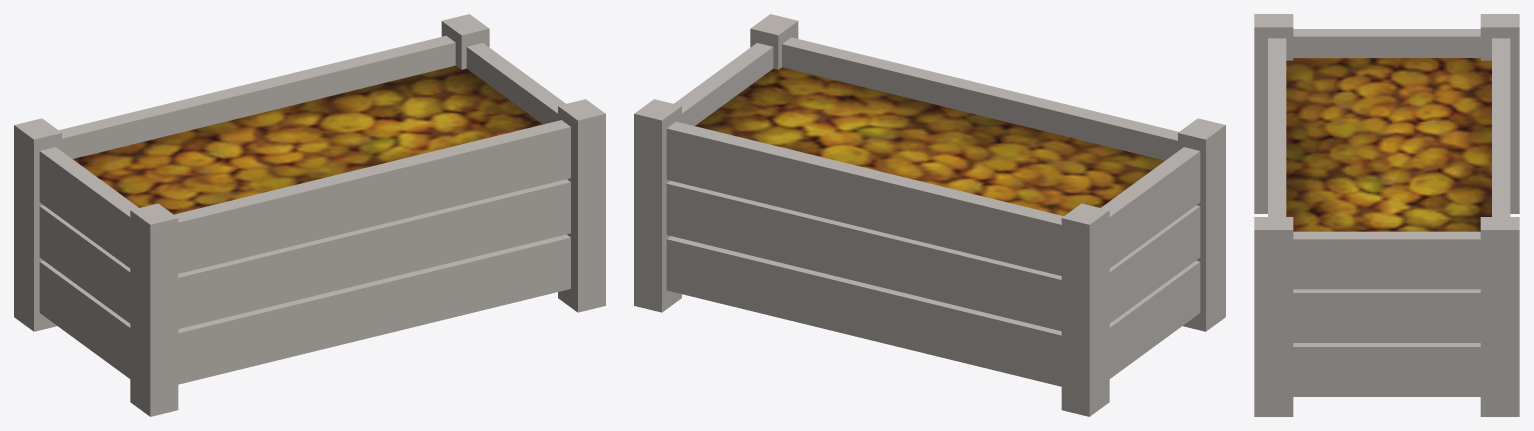
The model's file is StoreBox_A_01.fbx.
3 renders of one model, left to right at view 1: azimuth 30°, elevation 25°; view 2: azimuth 150°, elevation 25°; view 3: azimuth 270°, elevation 25°, orthographic. The views are drawn at different scales.
Parts seen in each view (by area): view 1: StoreBox_A_01; view 2: StoreBox_A_01; view 3: StoreBox_A_01.
Boxes of the visible parts, box(x1,y1,x2,y2) form: StoreBox_A_01: box(14, 14, 605, 416); StoreBox_A_01: box(634, 14, 1225, 416); StoreBox_A_01: box(1254, 14, 1519, 416).
Bounding box in the file's own units: 119 × 47.93 × 61.63.
